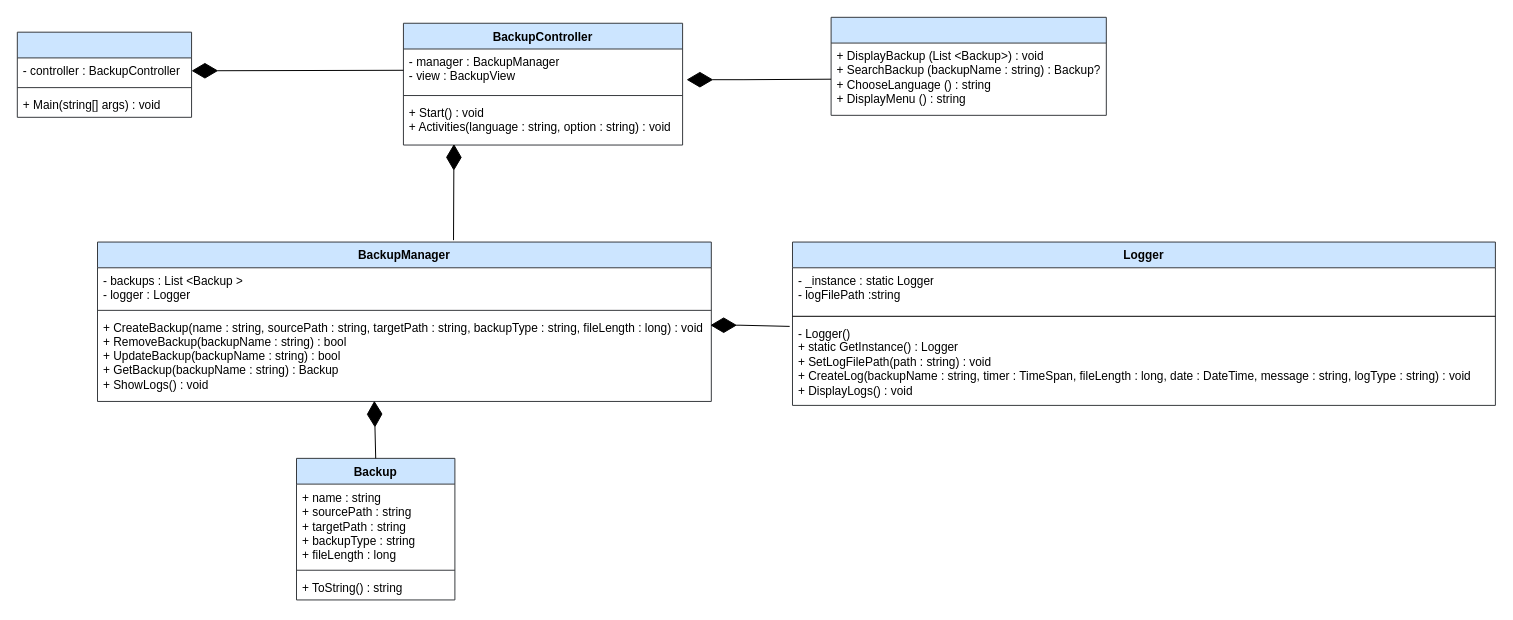
This 1513x620 diagram has some shape labels left out. The shapes that lost their labels are listed below. From the top down, each one's box as (x1, y1, x2, y2) in pixels, then its label:
(16, 31, 192, 117): Program
(830, 16, 1106, 115): BackupView
